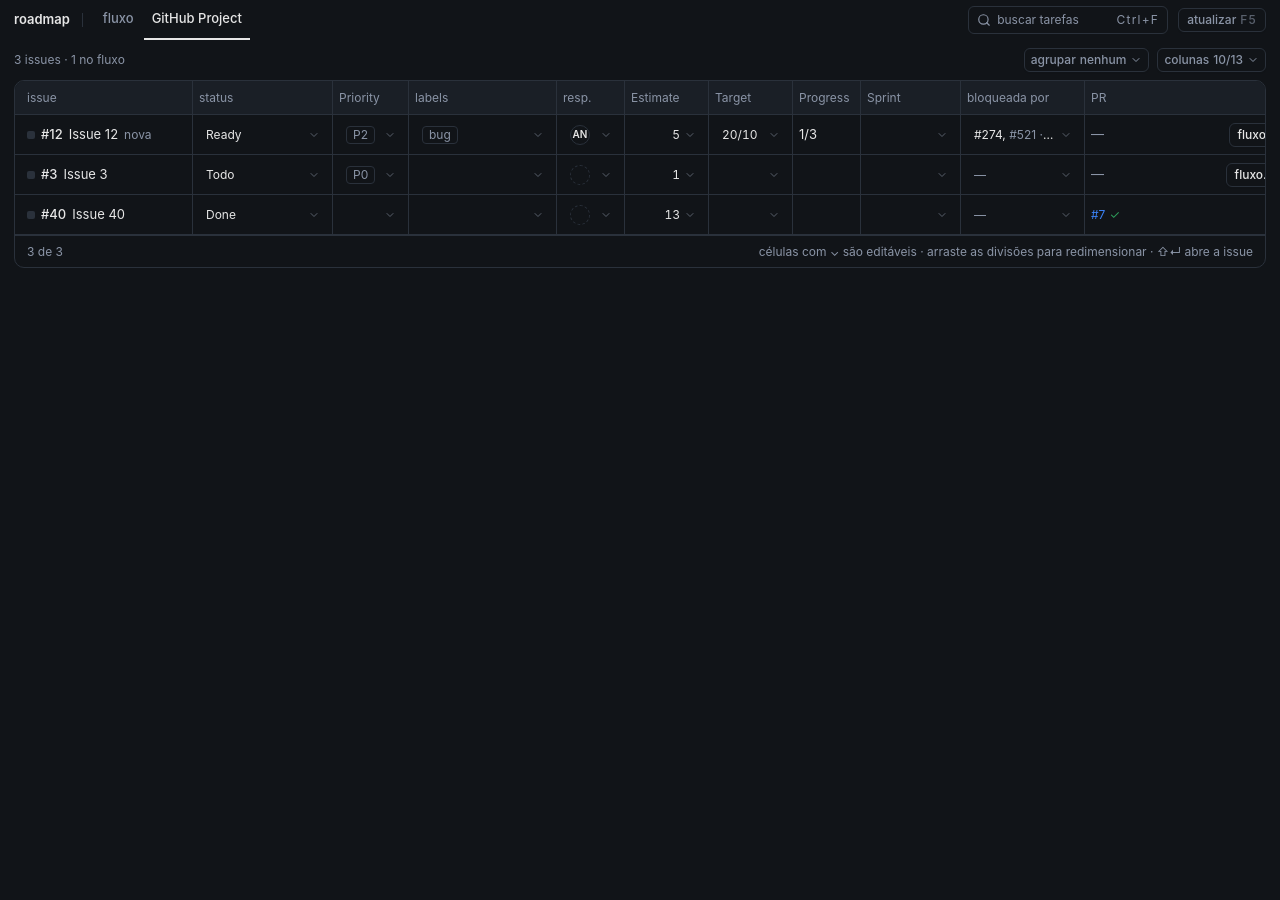
Test: × in the popover removes the ref through the blockers route and the row shows the answer at once, with no reload of the view (#61)
This screenshot has width=1280, height=900.
Expected: the text "3 de 3" is shown, left=27, top=244, right=63, bottom=260
Click the button with aria-label "editar bloqueada por".
click(1023, 134)  # box left=967, top=122, right=1079, bottom=146
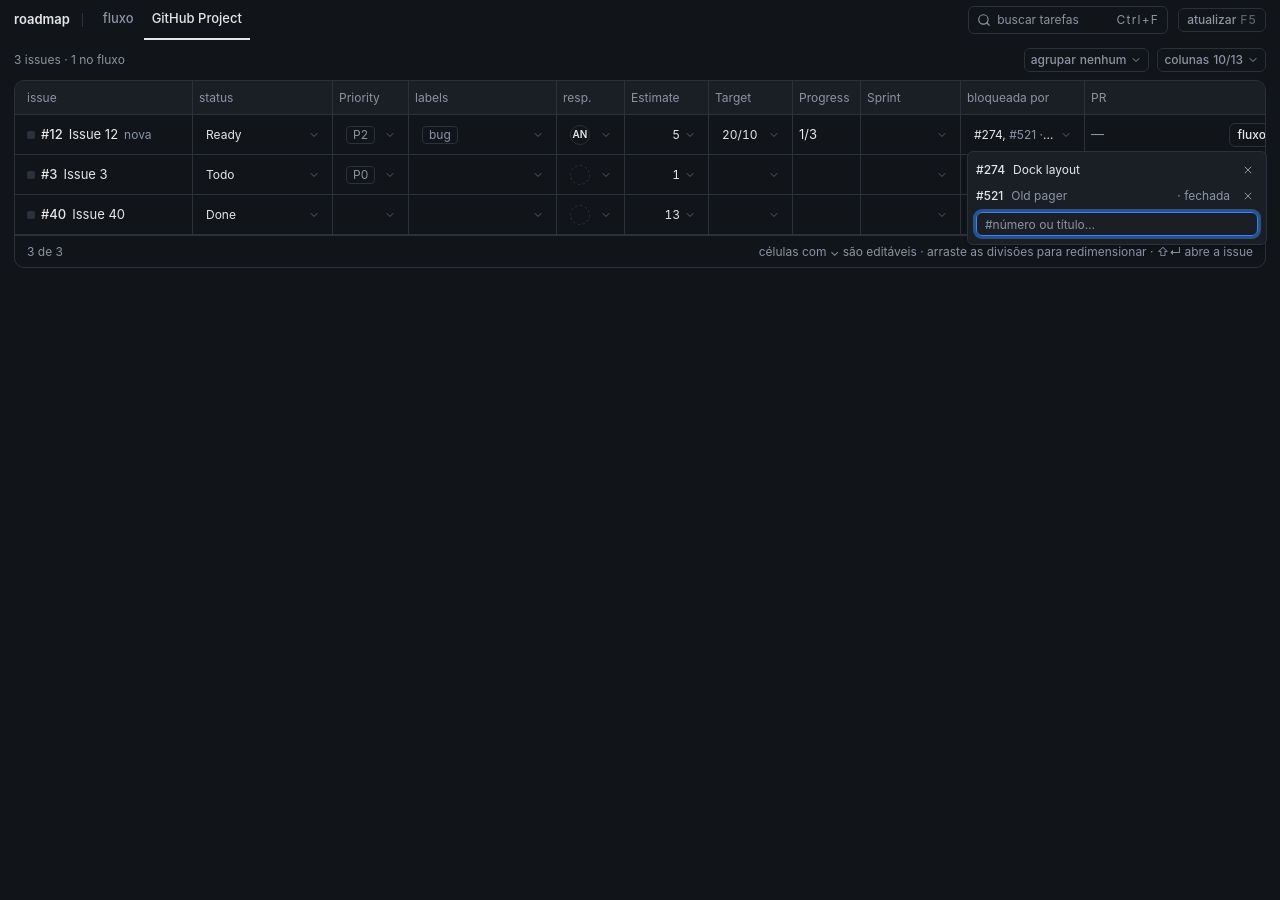
Click the button named "remover #521".
click(1248, 196)  # box left=1238, top=186, right=1258, bottom=206
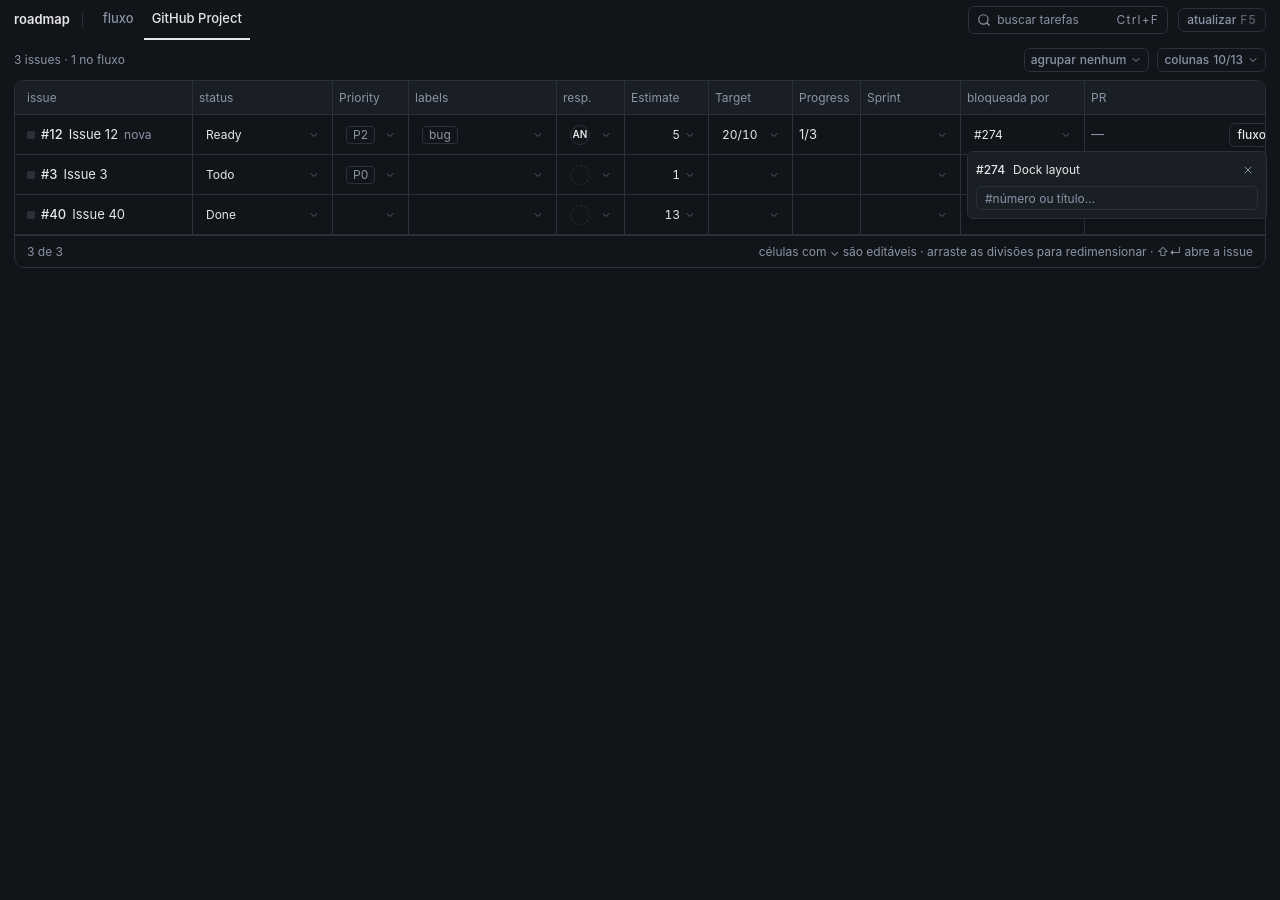
Now the button named "editar bloqueada por" reads "#274", box left=967, top=122, right=1079, bottom=146
